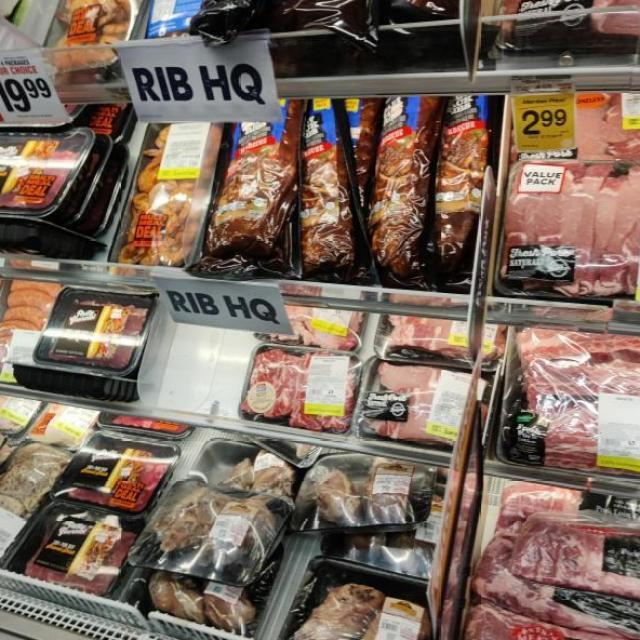Meat: (475, 498, 640, 629), (499, 152, 640, 304), (210, 97, 308, 281), (99, 110, 212, 269), (506, 351, 640, 467), (145, 478, 288, 583), (365, 97, 442, 289), (298, 446, 445, 540), (351, 351, 476, 443), (234, 344, 356, 438), (432, 94, 489, 285), (292, 563, 433, 640), (28, 286, 151, 368), (23, 504, 136, 590), (58, 432, 168, 510), (0, 272, 55, 392)
